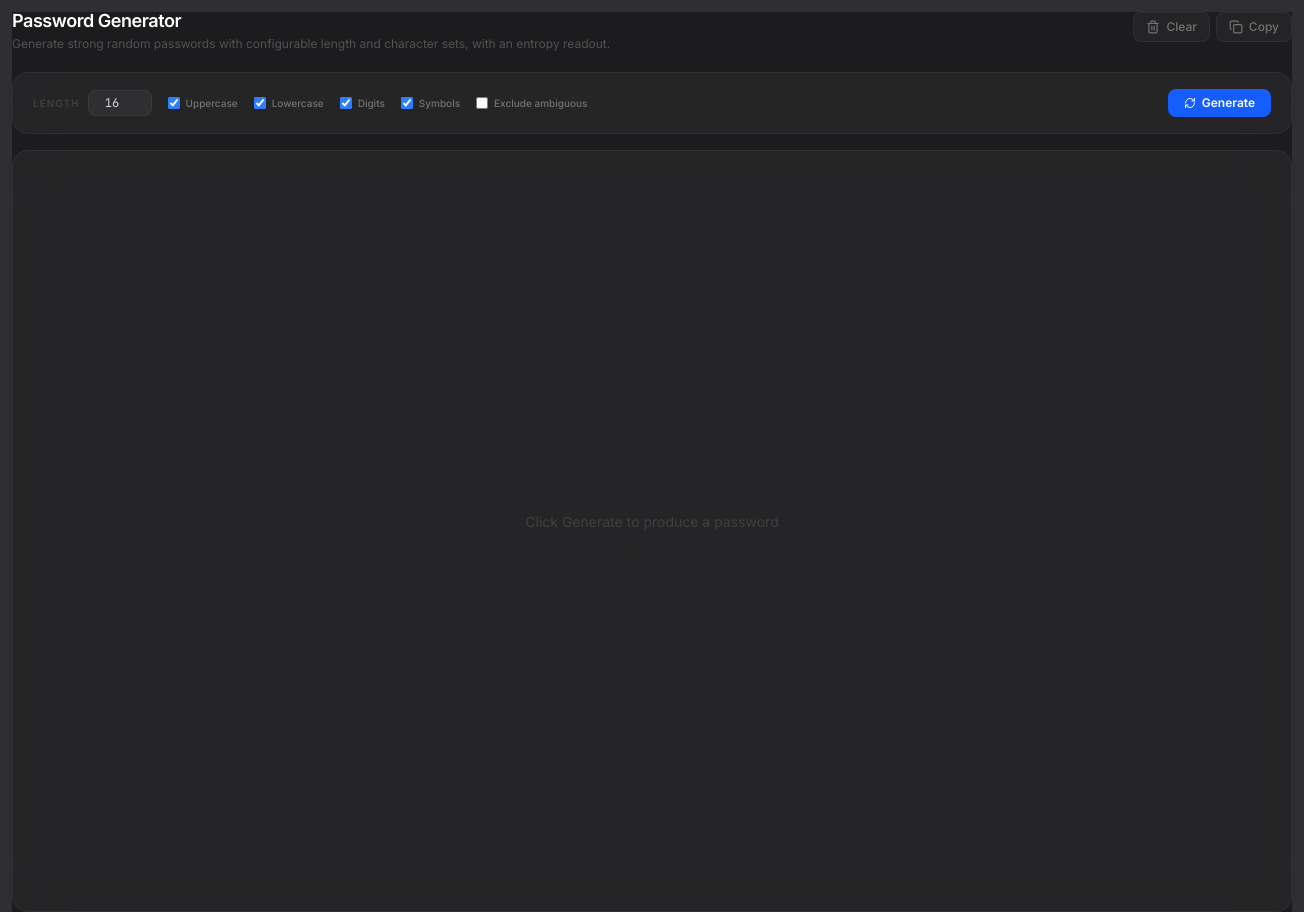
Test case: PasswordGenerator › disables Generate when all charset checkboxes are off
The image size is (1304, 912).
Click the checkbox labelled "Uppercase": (174, 103) x1=168 y1=97 x2=180 y2=109
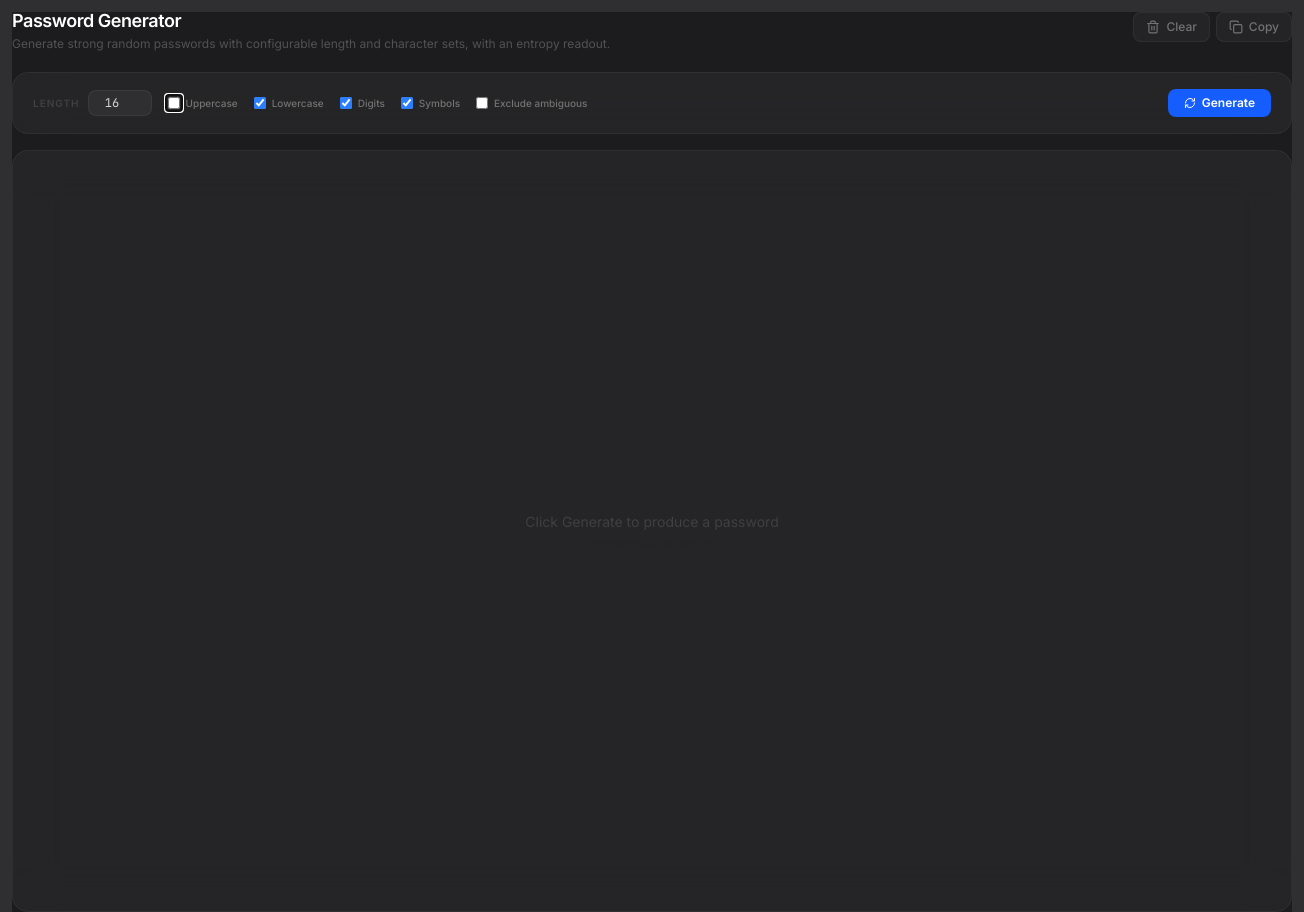
Click the checkbox labelled "Digits": (346, 103) x1=340 y1=97 x2=352 y2=109
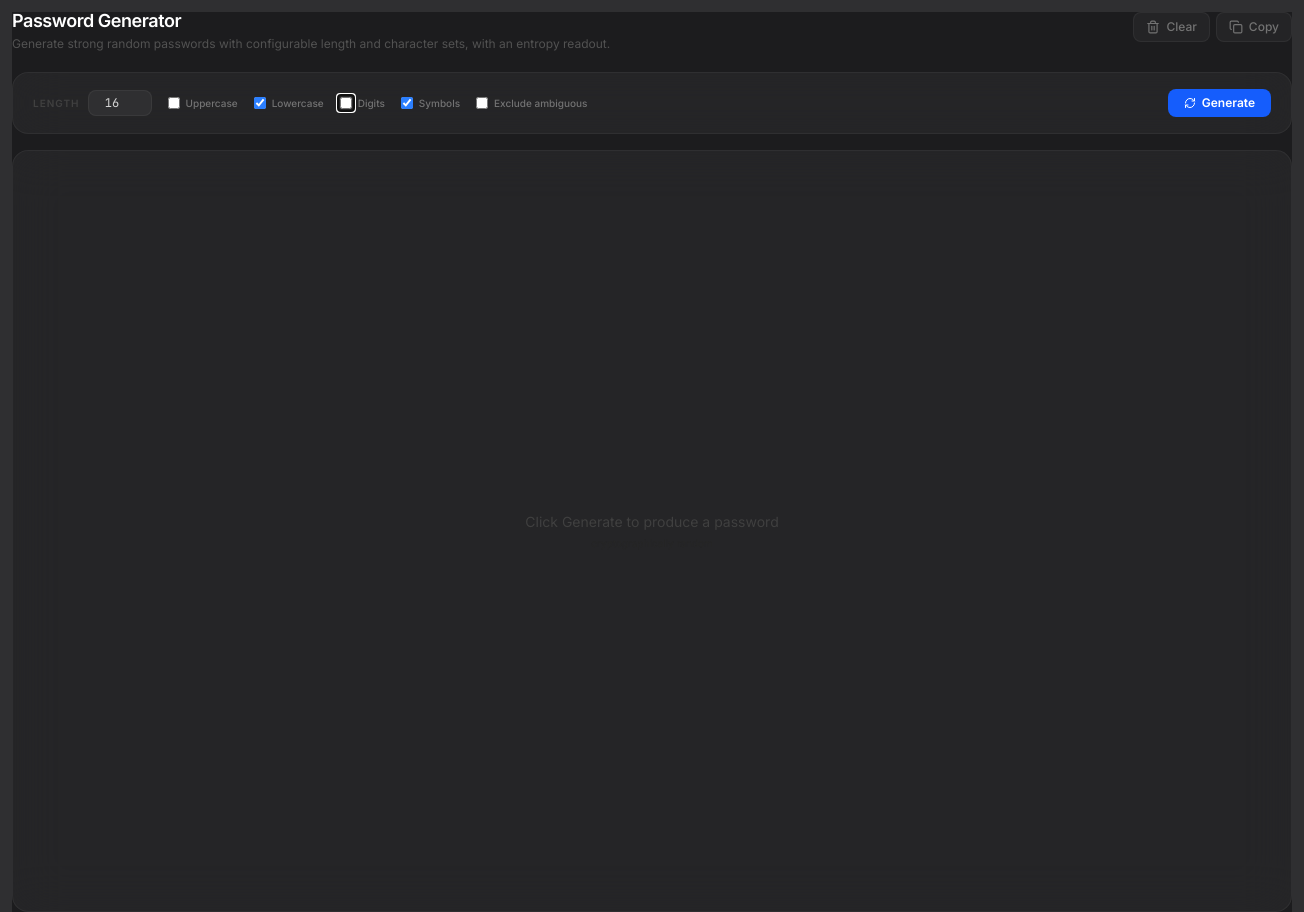
Click the checkbox labelled "Symbols": (407, 103) x1=401 y1=97 x2=413 y2=109
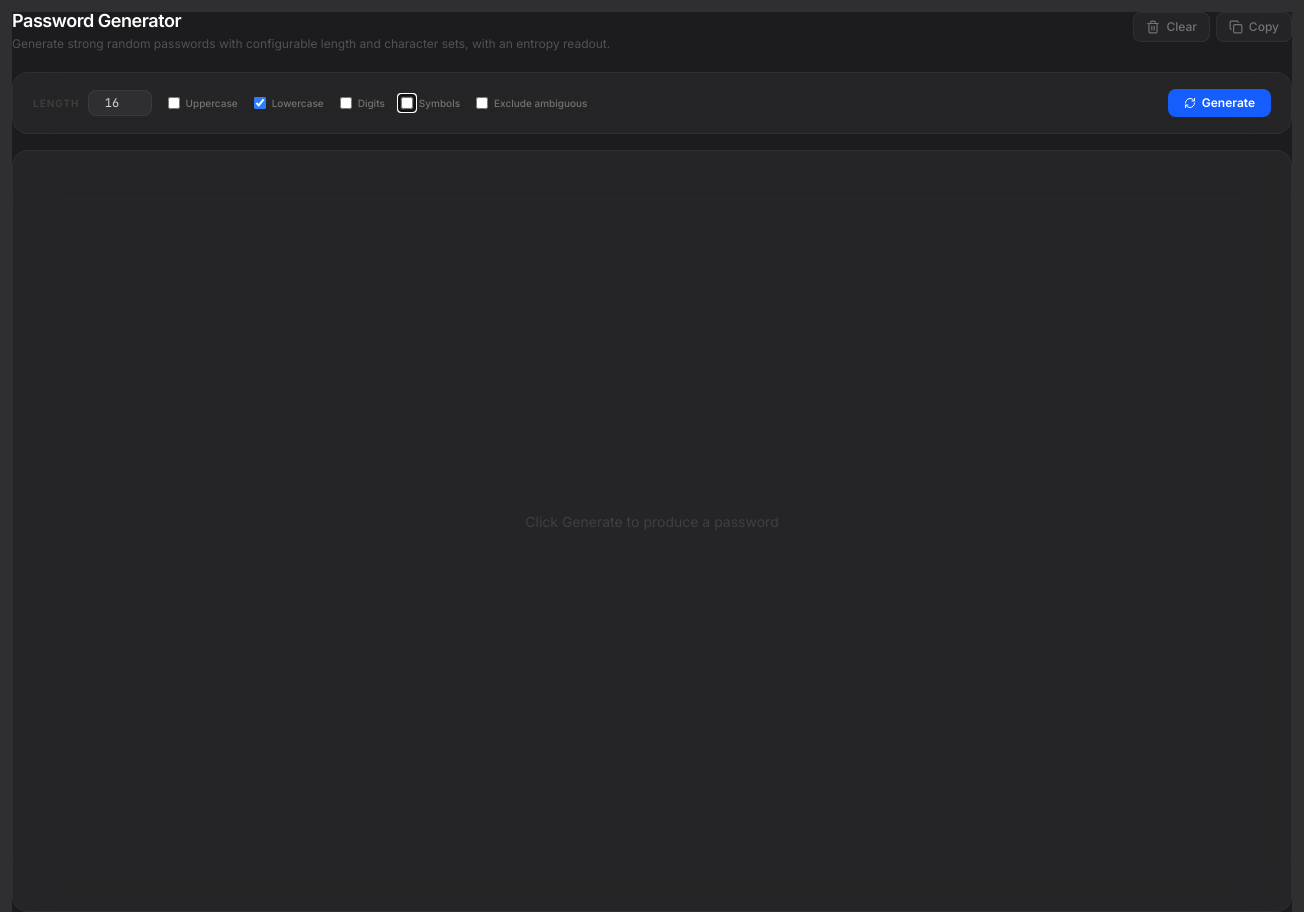
Click the checkbox labelled "Lowercase": (260, 103) x1=254 y1=97 x2=266 y2=109
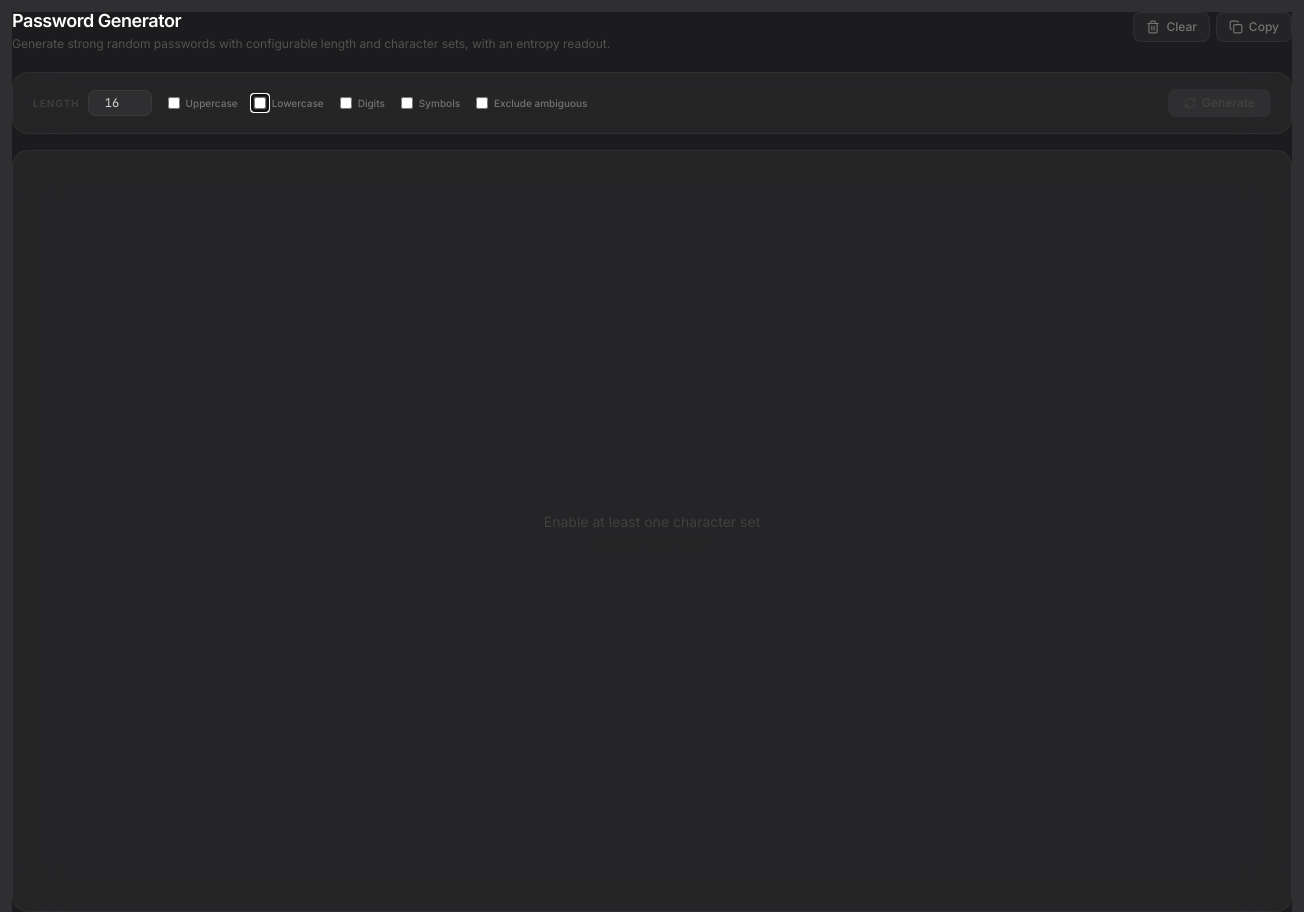
Expected: the button "Generate" is disabled, x1=1168 y1=89 x2=1271 y2=117
